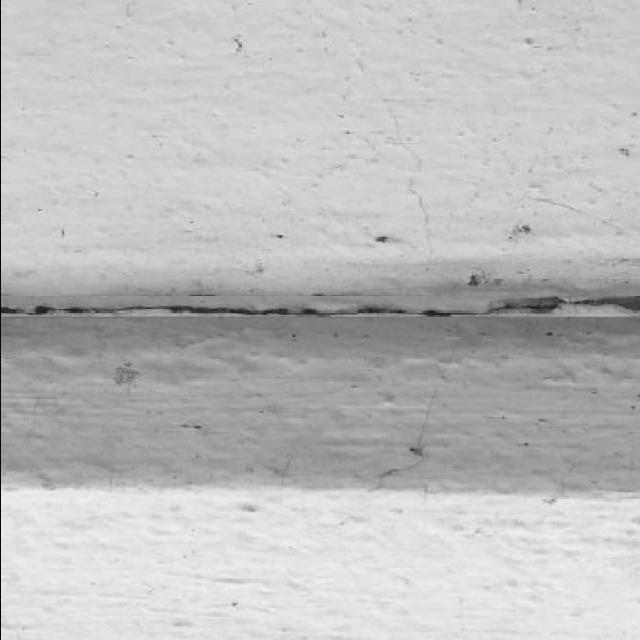Crack: (1, 294, 639, 319)
